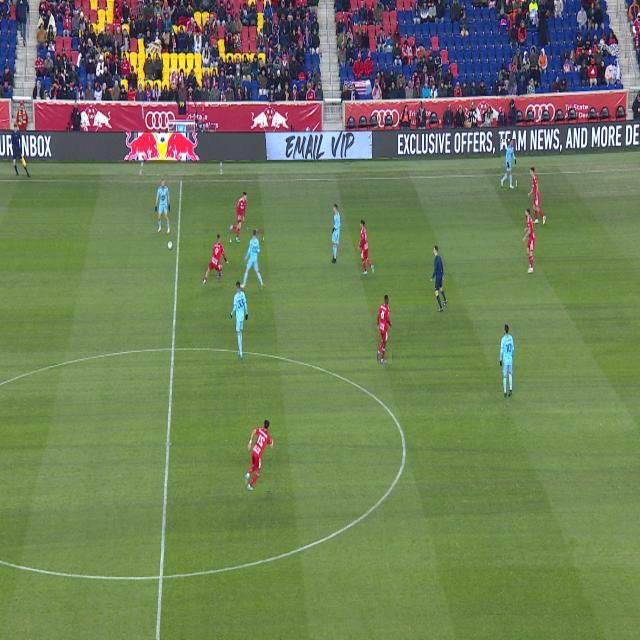football: (168, 241, 172, 249)
player: (245, 420, 273, 491), (240, 229, 264, 289), (230, 282, 248, 358), (203, 235, 229, 285), (377, 295, 392, 364), (528, 168, 546, 225), (500, 325, 514, 397), (358, 220, 374, 274), (230, 192, 247, 242), (155, 179, 170, 234), (524, 208, 535, 273), (502, 140, 516, 189), (332, 205, 340, 263)
referee: (431, 246, 447, 311)
